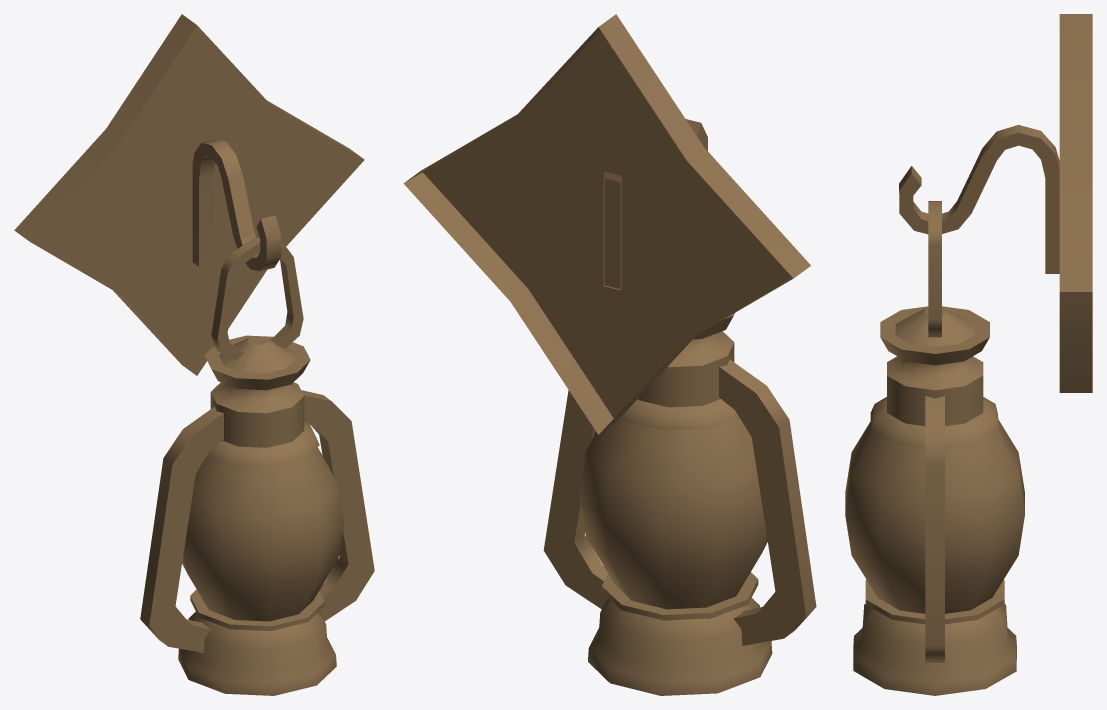
File: wall_light.fbx
3 renders of one model, left to right at view 1: azimuth 30°, elevation 25°; view 2: azimuth 150°, elevation 25°; view 3: azimuth 270°, elevation 25°, orthographic. The views are drawn at different scales.
Visible parts, largest first — view 1: wall_light, wall_light_glass; view 2: wall_light, wall_light_glass; view 3: wall_light, wall_light_glass.
Part boxes in pixels (x1,y1,x2,y2): wall_light: (14,14,374,695); wall_light_glass: (182,447,344,621); wall_light: (403,14,816,695); wall_light_glass: (579,417,767,609); wall_light: (853,14,1092,695); wall_light_glass: (845,419,1024,613).
Bounding box in the file's own units: 45.73 × 77.7 × 27.02.
